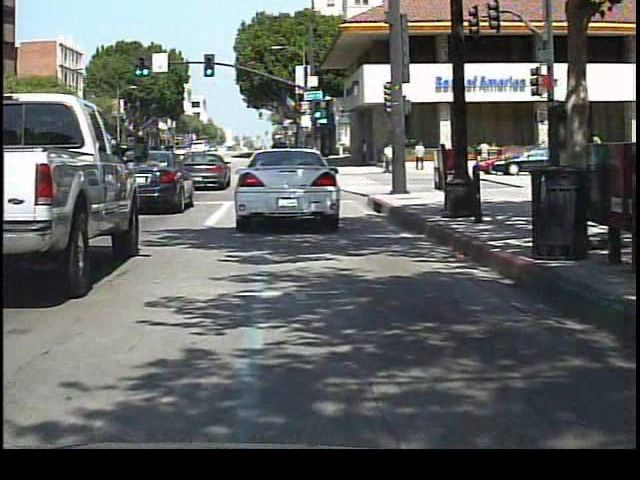person: (474, 136, 493, 171), (381, 139, 397, 175), (412, 139, 429, 172)
